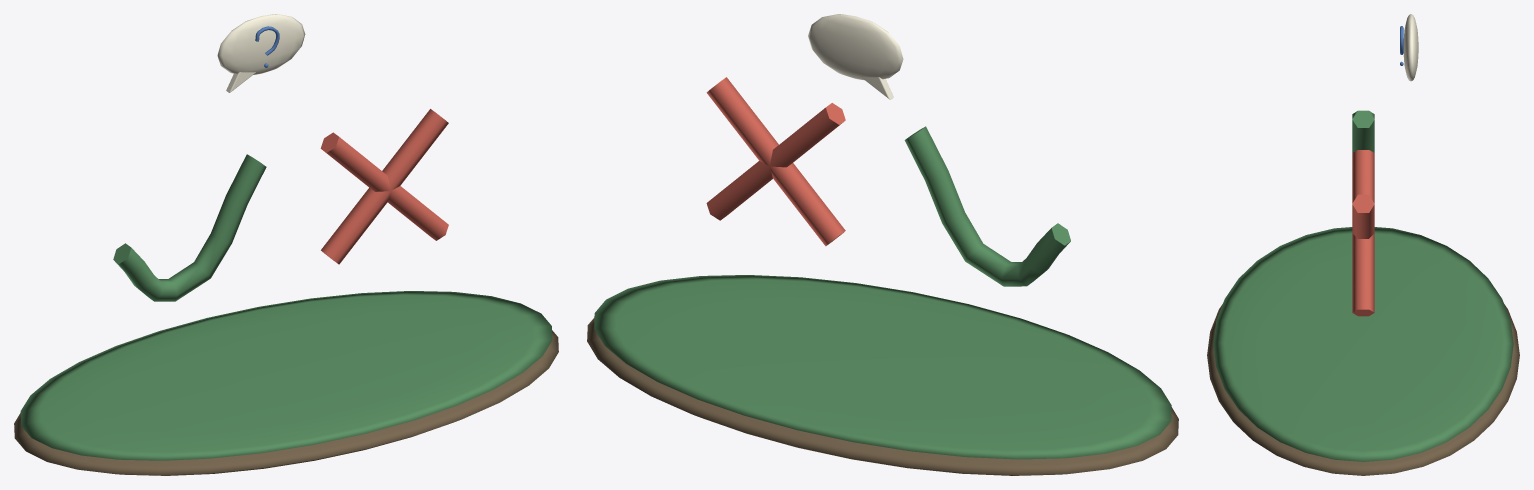
File: complete-third-is-or-no.glb
3 views of the same model, side by side, from view 1: azimuth 30°, elevation 25°; view 2: azimuth 150°, elevation 25°; view 3: azimuth 270°, elevation 25° (orthographic). The views are drawn at different scales.
Parts seen in each view (by area): view 1: complete-third-is-or-no_surface_01, complete-third-is-or-no_surface_00, complete-third-is-or-no_surface_02, complete-third-is-or-no_surface_03; view 2: complete-third-is-or-no_surface_01, complete-third-is-or-no_surface_00, complete-third-is-or-no_surface_02, complete-third-is-or-no_surface_03; view 3: complete-third-is-or-no_surface_01, complete-third-is-or-no_surface_00, complete-third-is-or-no_surface_02, complete-third-is-or-no_surface_03.
Boxes of the visible parts, x1=… form: complete-third-is-or-no_surface_01: x1=20, y1=154, x2=552, y2=460; complete-third-is-or-no_surface_00: x1=14, y1=330, x2=558, y2=475; complete-third-is-or-no_surface_02: x1=320, y1=109, x2=448, y2=264; complete-third-is-or-no_surface_03: x1=217, y1=14, x2=305, y2=92; complete-third-is-or-no_surface_01: x1=594, y1=126, x2=1171, y2=459; complete-third-is-or-no_surface_00: x1=587, y1=318, x2=1178, y2=475; complete-third-is-or-no_surface_02: x1=706, y1=77, x2=845, y2=246; complete-third-is-or-no_surface_03: x1=808, y1=14, x2=903, y2=99; complete-third-is-or-no_surface_01: x1=1213, y1=110, x2=1513, y2=461; complete-third-is-or-no_surface_00: x1=1207, y1=304, x2=1519, y2=475; complete-third-is-or-no_surface_02: x1=1352, y1=150, x2=1374, y2=316; complete-third-is-or-no_surface_03: x1=1403, y1=14, x2=1418, y2=81.
Bounding box in the file's own units: 4.56 × 3.08 × 2.5.
